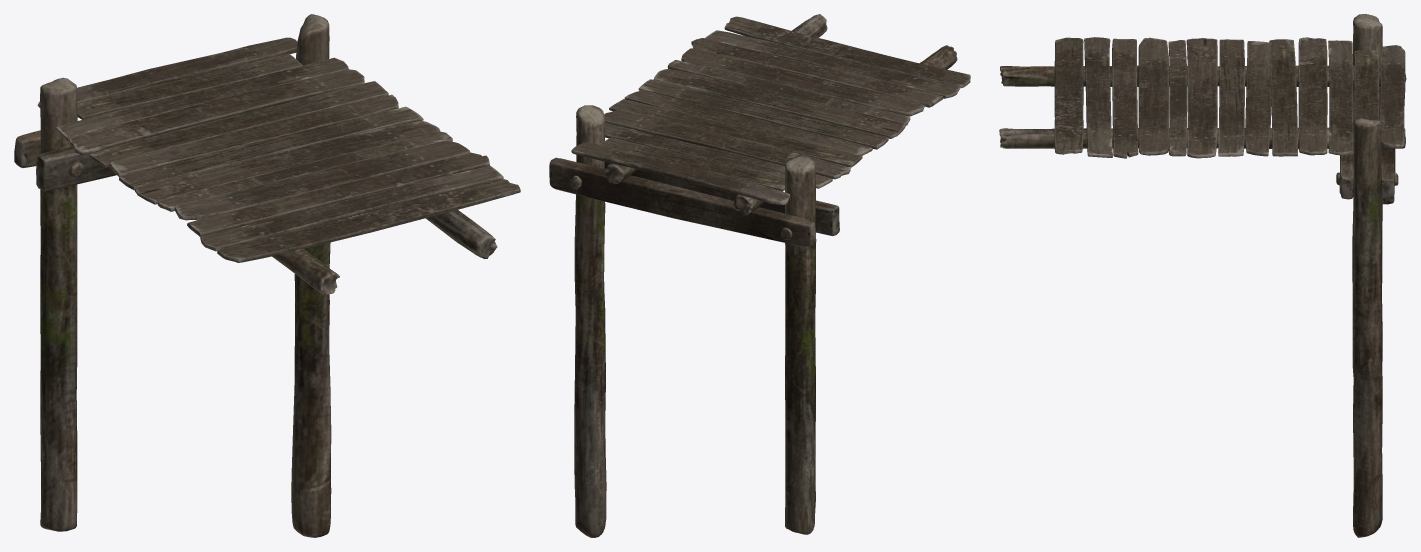
File: jetty-section.glb
The picture shows the model from 3 angles, left to right: view 1: azimuth 30°, elevation 25°; view 2: azimuth 150°, elevation 25°; view 3: azimuth 270°, elevation 25°; orthographic projection. The views are drawn at different scales.
Visible parts, largest first — view 1: modular_wooden_pier_section_02; view 2: modular_wooden_pier_section_02; view 3: modular_wooden_pier_section_02.
Boxes of the visible parts, x1=… form: modular_wooden_pier_section_02: x1=14, y1=14, x2=520, y2=537; modular_wooden_pier_section_02: x1=549, y1=14, x2=970, y2=537; modular_wooden_pier_section_02: x1=999, y1=14, x2=1406, y2=537.
Bounding box in the file's own units: 2.51 × 3.84 × 3.39.
2 materials, 2 textured.
